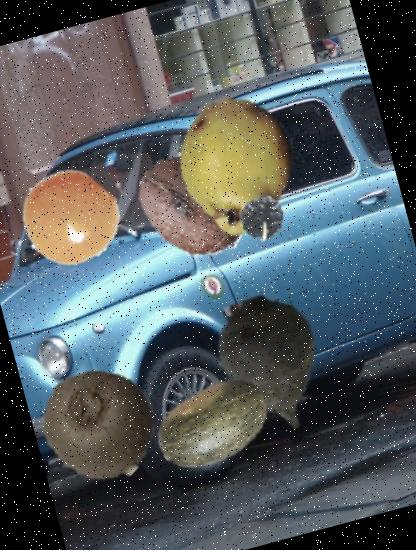Beetroot: (181, 274, 365, 458)
Cocos: (122, 134, 264, 276)
Kiwi: (29, 353, 171, 495)
Melon: (142, 354, 283, 495)
Mulberry: (226, 176, 296, 245)
Physalis: (8, 158, 130, 279)
Quince: (151, 82, 320, 252)
